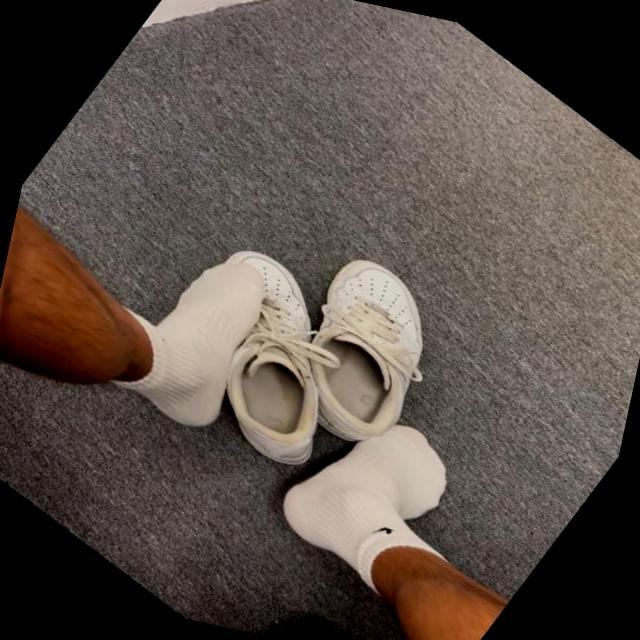nike_original_airforce: (110, 214, 412, 502), (238, 222, 486, 478)
